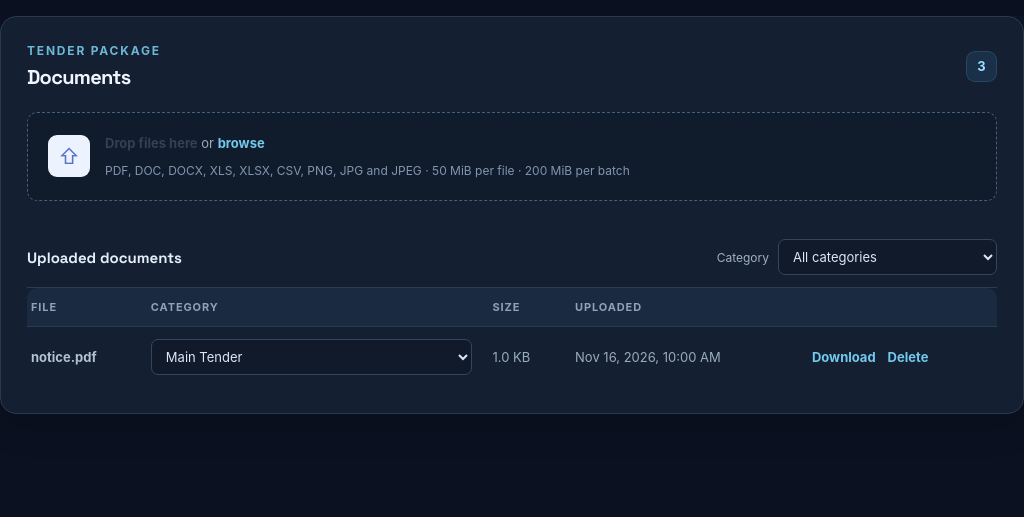
Test: tender document management › requires delete confirmation and refreshes the list and tender count after deletion
Expected: the text "notice.pdf" is shown, [31,349,97,365]
Click the button "Delete". click: (908, 357)
box: [888,349,928,365]
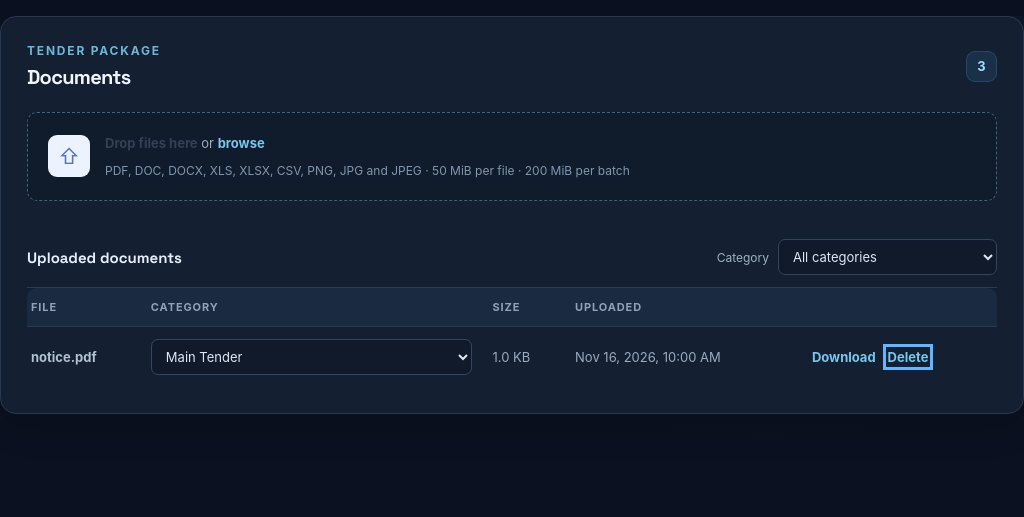
Click the button "Delete". click: (908, 357)
box: [888,349,928,365]
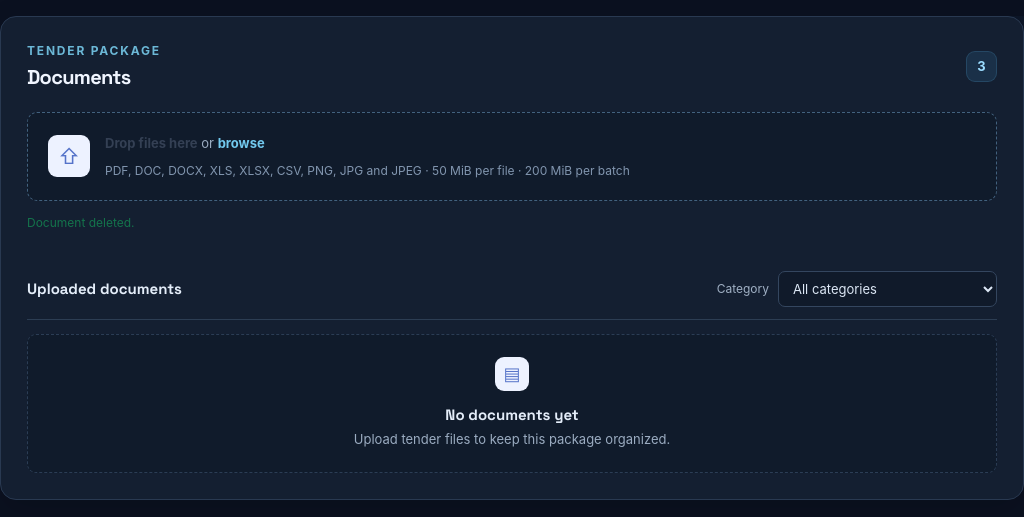
Now the text "Document deleted." is shown, box [27,215,135,230]
Now the heading "No documents yet" is shown, box [445,405,579,424]
